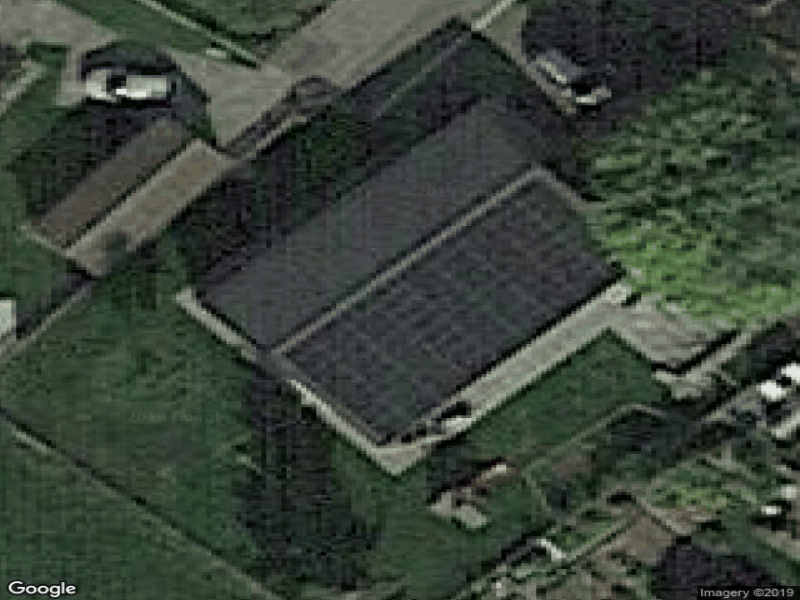pv: (288, 179, 624, 443)
